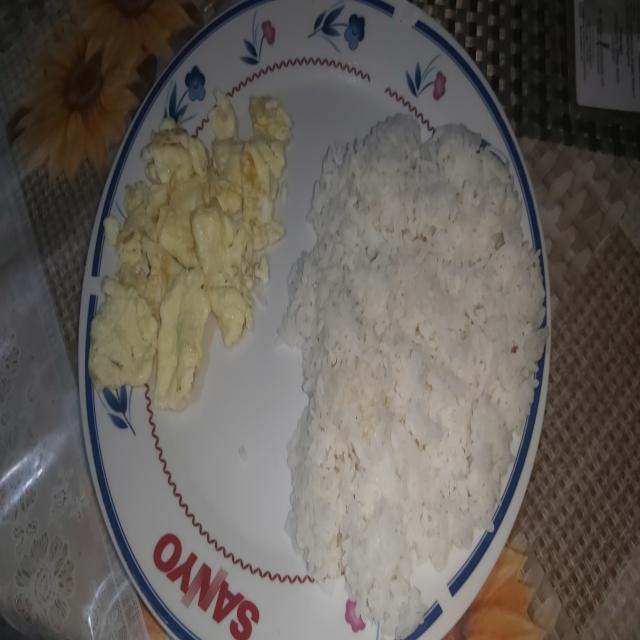Chicken -Chicken Inasal-: (299, 114, 522, 616)
